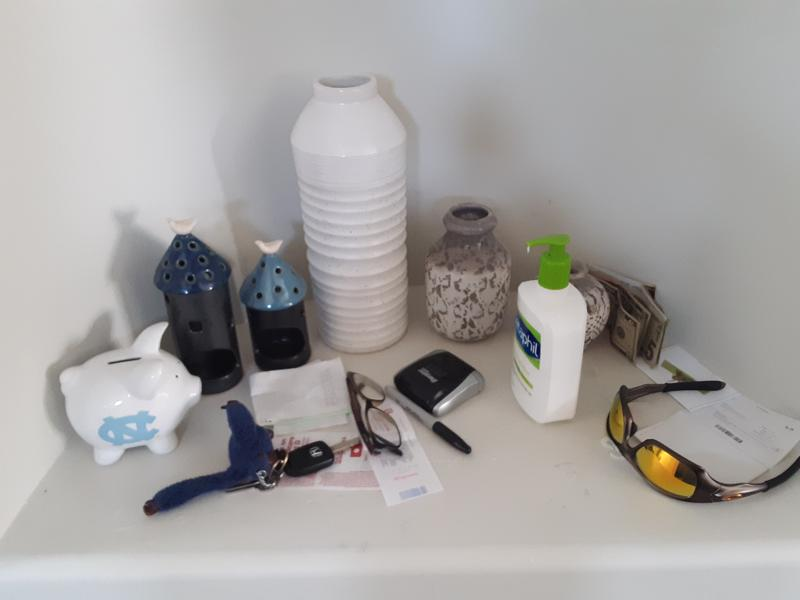glasses: (344, 367, 405, 459)
